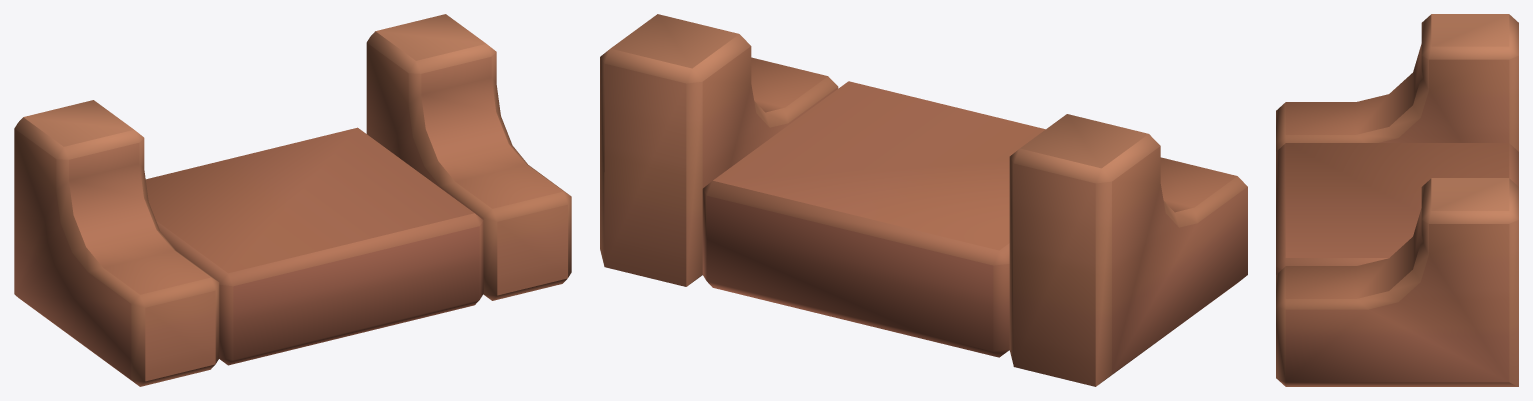
Rendered from shelf_B_small.glb.
3 views of the same model, side by side, from view 1: azimuth 30°, elevation 25°; view 2: azimuth 150°, elevation 25°; view 3: azimuth 270°, elevation 25° (orthographic). The views are drawn at different scales.
Parts seen in each view (by area): view 1: shelf_B_small; view 2: shelf_B_small; view 3: shelf_B_small.
Part boxes in pixels (<box>): shelf_B_small: <box>14,14,571,386</box>; shelf_B_small: <box>600,14,1247,386</box>; shelf_B_small: <box>1276,14,1518,386</box>.
Size of the model in its own units: 1 by 0.3999 by 0.5001.
1 material, 1 textured.
